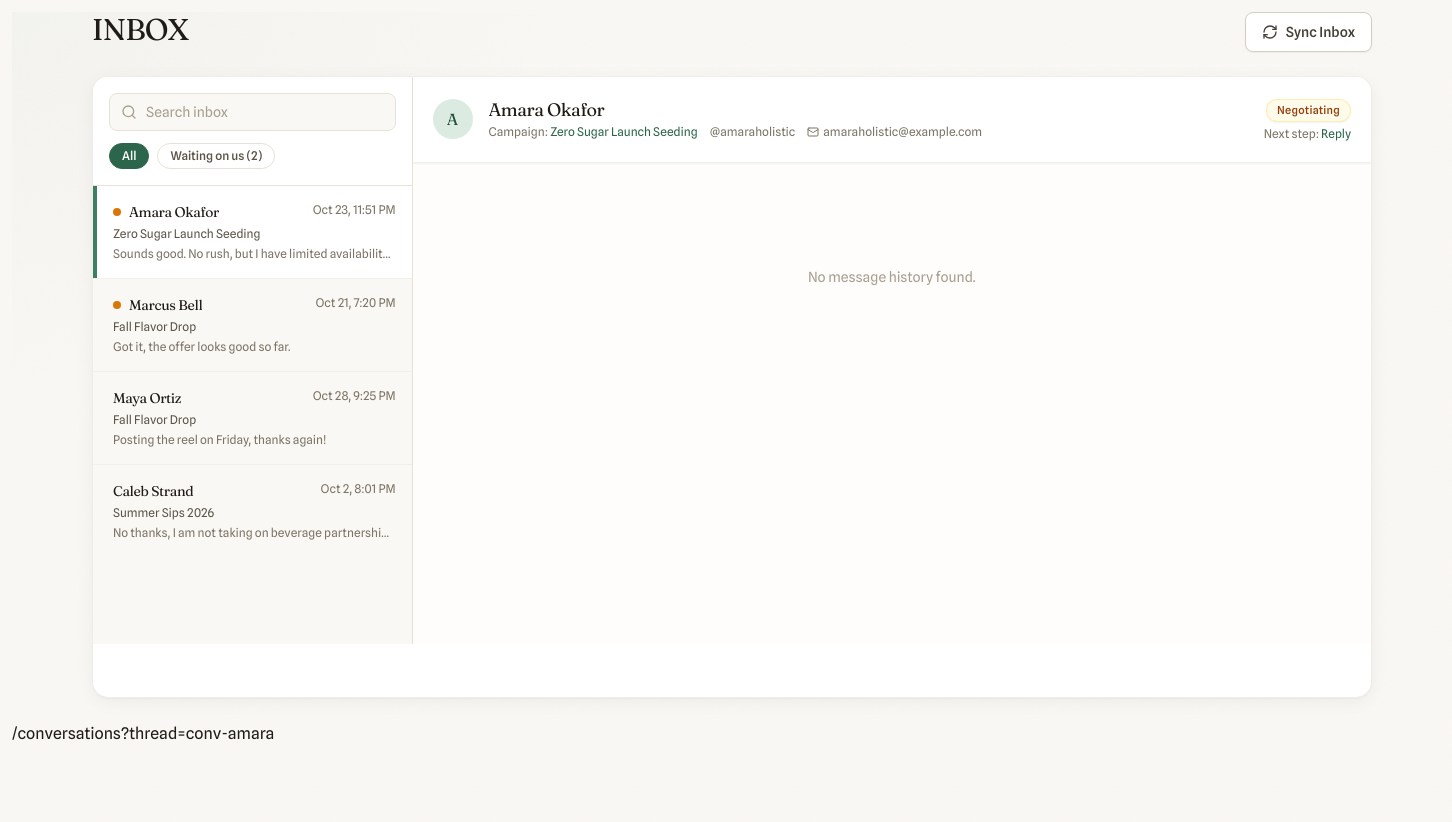
it: Conversations page › search matches campaign name
The image size is (1452, 822).
Check: the number of list items is 4, box [93, 186, 412, 278]; [93, 278, 412, 371]; [93, 371, 412, 464]; [93, 464, 412, 557]
In the search field named "Search conversations": (252, 112) [109, 93, 396, 131], type "zero sugar"
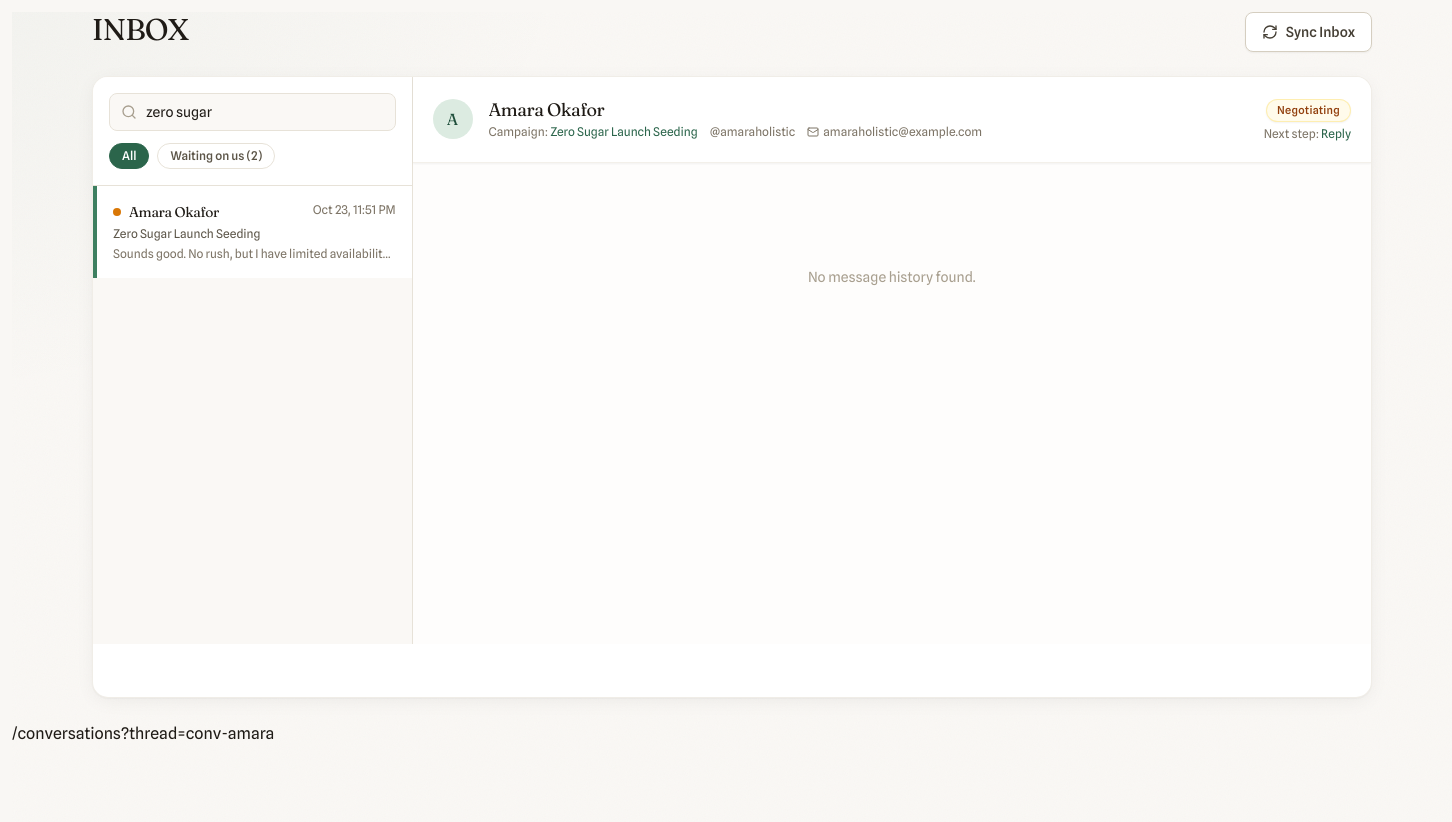
Check: the list item shows "Amara Okafor", box [93, 186, 412, 278]
Check: the number of list items is 1, box [93, 186, 412, 278]
